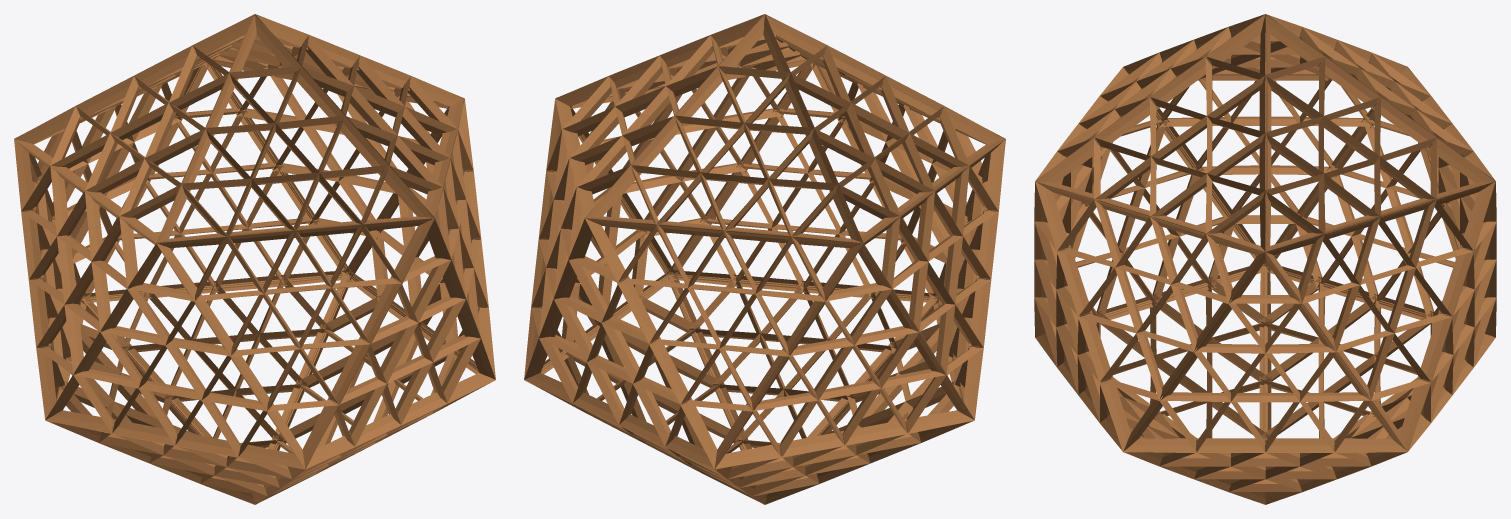
The picture shows the model from 3 angles, left to right: view 1: azimuth 30°, elevation 25°; view 2: azimuth 150°, elevation 25°; view 3: azimuth 270°, elevation 25°; orthographic projection.
Parts seen in each view (by area): view 1: Icosphere; view 2: Icosphere; view 3: Icosphere.
Part boxes in pixels (x1,y1,x2,y2): Icosphere: [14, 14, 495, 504]; Icosphere: [524, 14, 1005, 504]; Icosphere: [1034, 14, 1496, 504].
Bounding box in the file's own units: 1.85 × 2.06 × 1.76.
